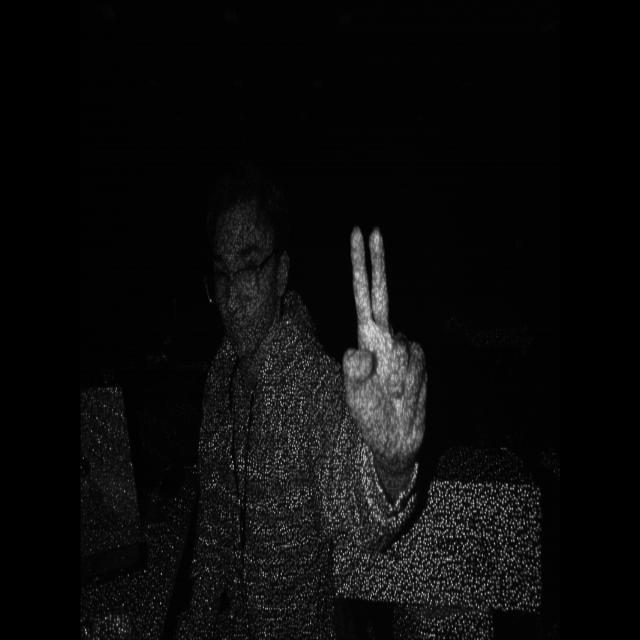K: (337, 217, 436, 460)
